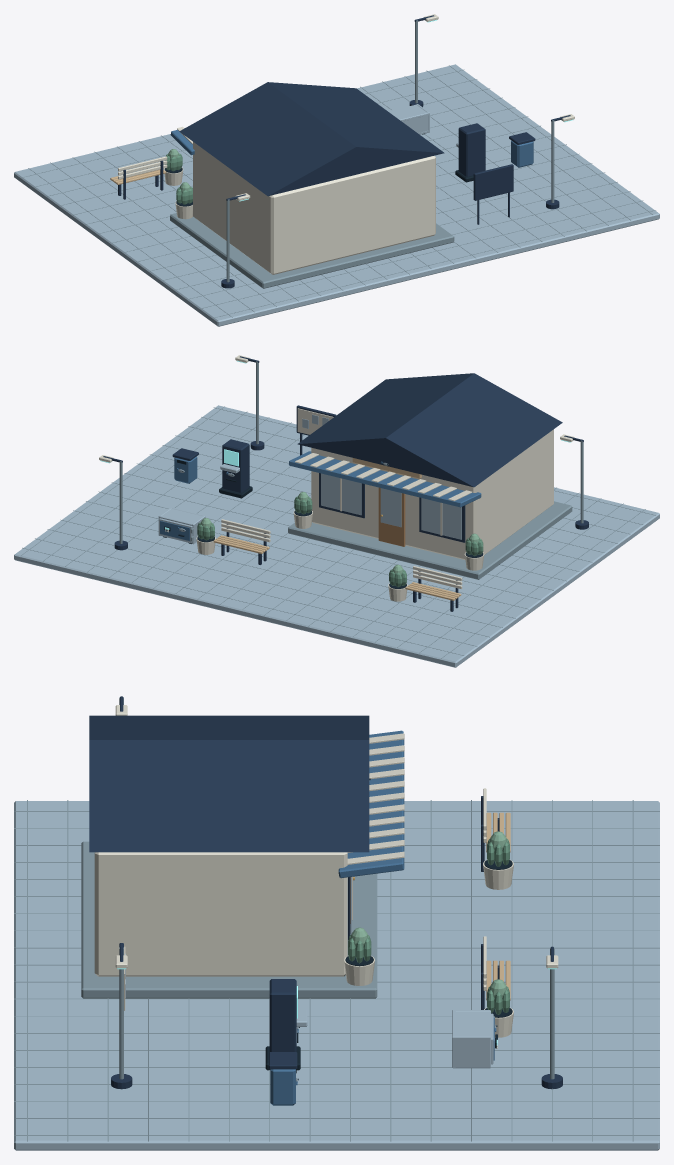
Rendered from harbor_plaza.glb.
3 renders of one model, top to bottom at view 1: azimuth 30°, elevation 25°; view 2: azimuth 150°, elevation 25°; view 3: azimuth 270°, elevation 25°, orthographic. The views are drawn at different scales.
Parts seen in each view (by area): view 1: plaza, main_building, gable_roof, foundation, body (×2), frame, tile_joint (×2); view 2: plaza, gable_roof, main_building, foundation, glass (×2), awning, tile_joint (×4), body (×2), door, door_glass, board; view 3: plaza, gable_roof, main_building, foundation, tile_joint (×5), awning, body (×2), right, top.
Part boxes in pixels (x1,y1,x2,y2): plaza: (14, 64, 659, 326); main_building: (193, 142, 435, 274); gable_roof: (179, 82, 444, 196); foundation: (170, 213, 454, 288); body (×2): (458, 123, 533, 176); frame: (473, 164, 513, 200); tile_joint (×2): (201, 200, 655, 317); plaza: (14, 405, 659, 667); gable_roof: (297, 373, 562, 487); main_building: (311, 429, 553, 559); foundation: (288, 501, 572, 579); glass (×2): (321, 473, 461, 539); awning: (289, 451, 481, 507); tile_joint (×4): (22, 519, 502, 655); body (×2): (174, 439, 249, 492); door: (378, 487, 405, 546); door_glass: (380, 488, 401, 527); board: (297, 408, 333, 434); plaza: (14, 801, 659, 1150); gable_roof: (89, 715, 369, 852); main_building: (94, 852, 347, 976); foundation: (81, 841, 377, 998); tile_joint (×5): (14, 800, 659, 1141); awning: (338, 730, 404, 878); body (×2): (269, 979, 296, 1105); right: (452, 1035, 490, 1068); top: (452, 1011, 490, 1040).
Size of the model in its own units: 15 by 4 by 12.
